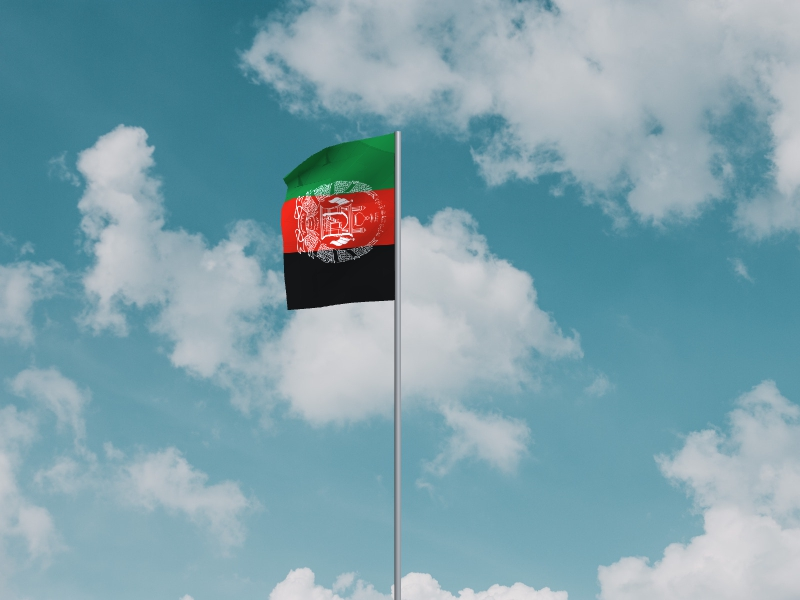af: (281, 133, 395, 312)
